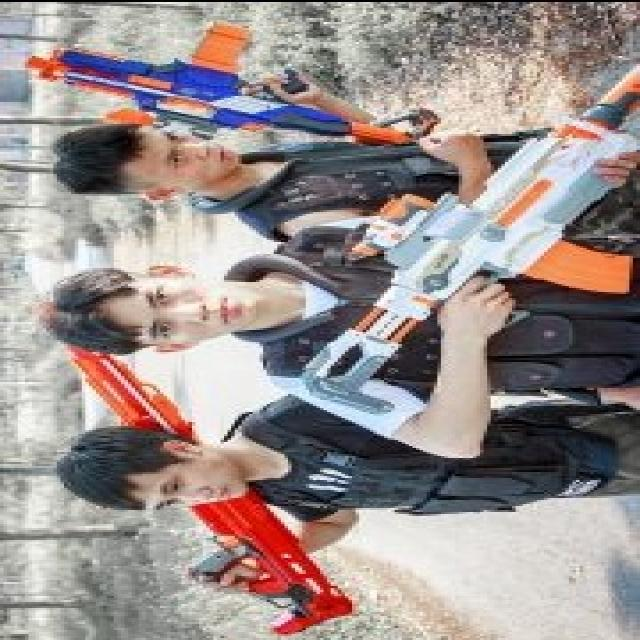Nerf gun: (306, 70, 640, 422), (52, 325, 354, 635), (16, 17, 446, 151)
